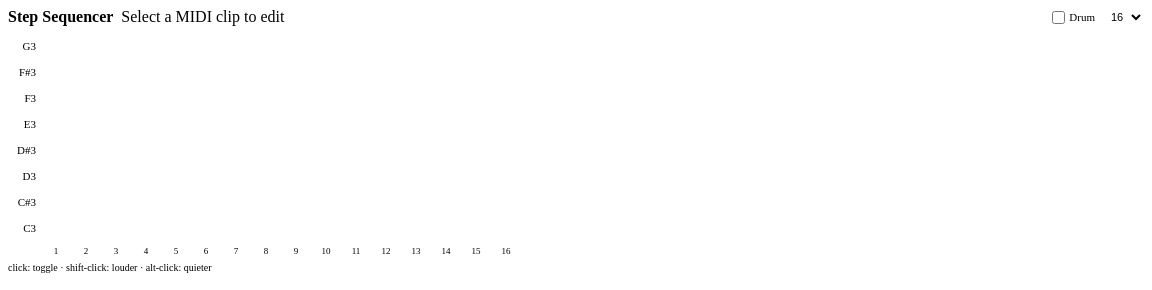
Test: StepSequencer › label modes › toggles back to note labels
Click the checkbox. click: click(1059, 17)
box: [1052,10,1065,24]
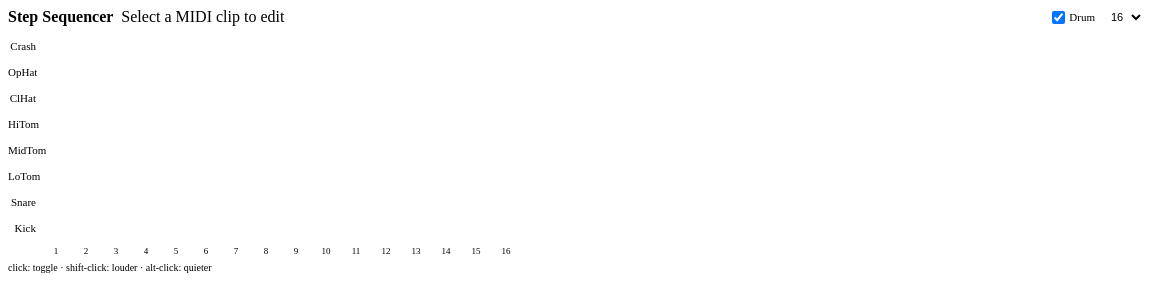
Click the checkbox. click: click(1059, 17)
box: [1052,10,1065,24]
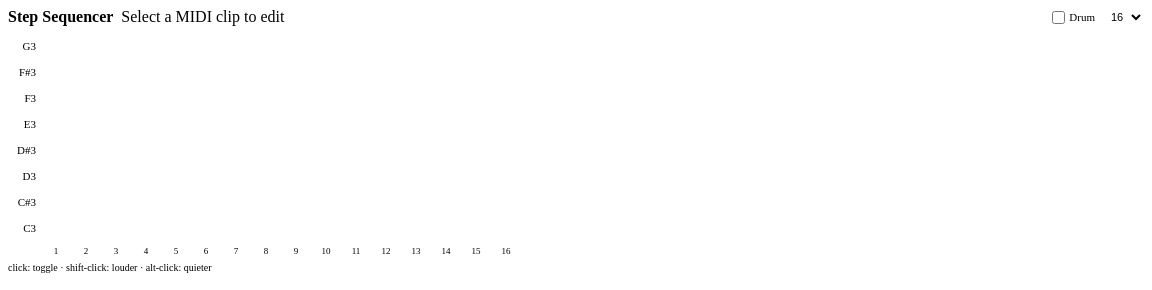
expect the text "G3" is shown: met, box [22,40,36,52]
